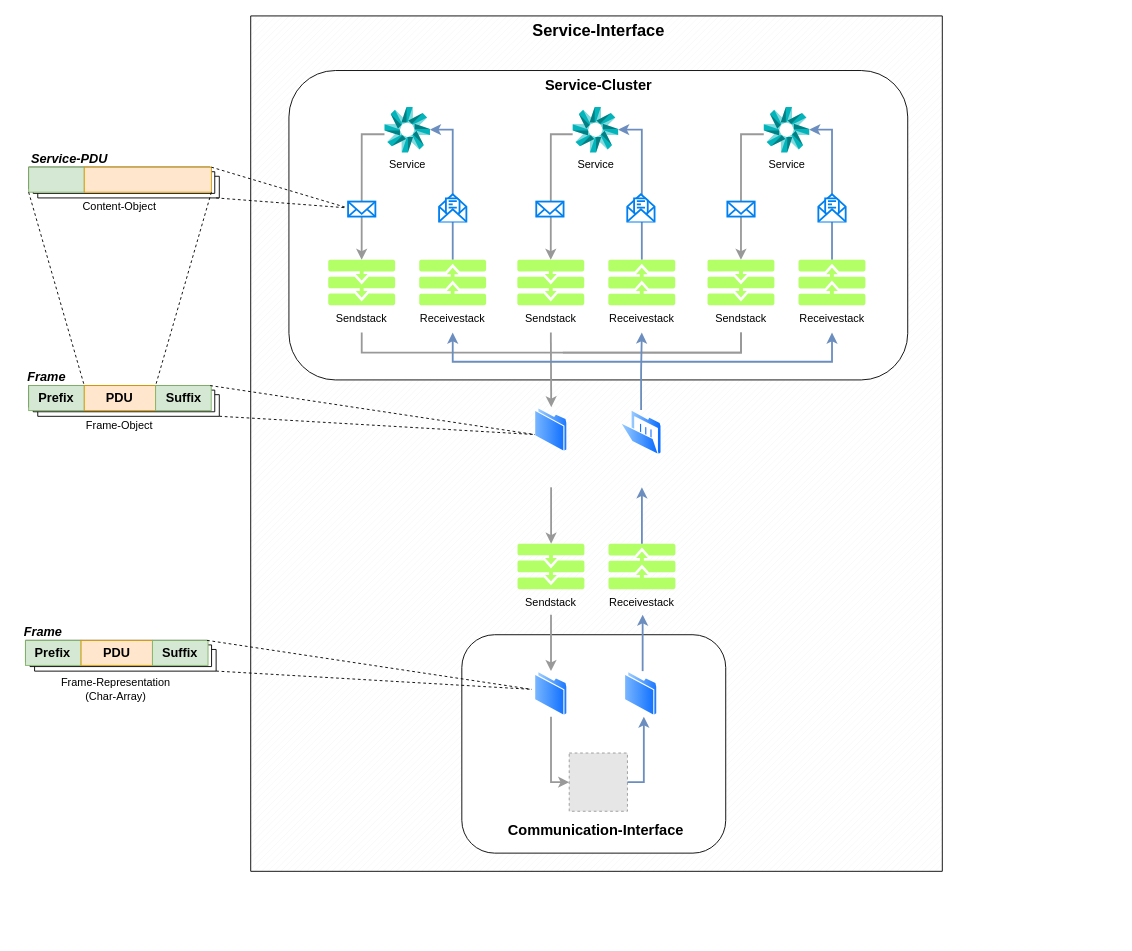
The diagram is 1132 pixels wide and 951 high, and some of its shapes have lost their labels. Grey dashed boxes stand in for pictures. The box of each missing label's shape, as (x1, y1, x2, y2) in pixels:
build Frame: (534, 407, 567, 452)
PCI: (28, 166, 84, 192)
SDU: (83, 166, 211, 192)
unpack Frame: (620, 410, 662, 455)
